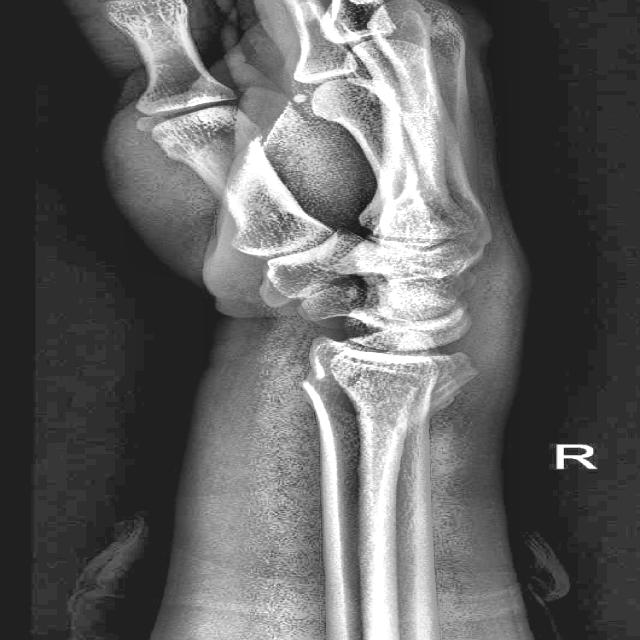line: (297, 370, 329, 388)
